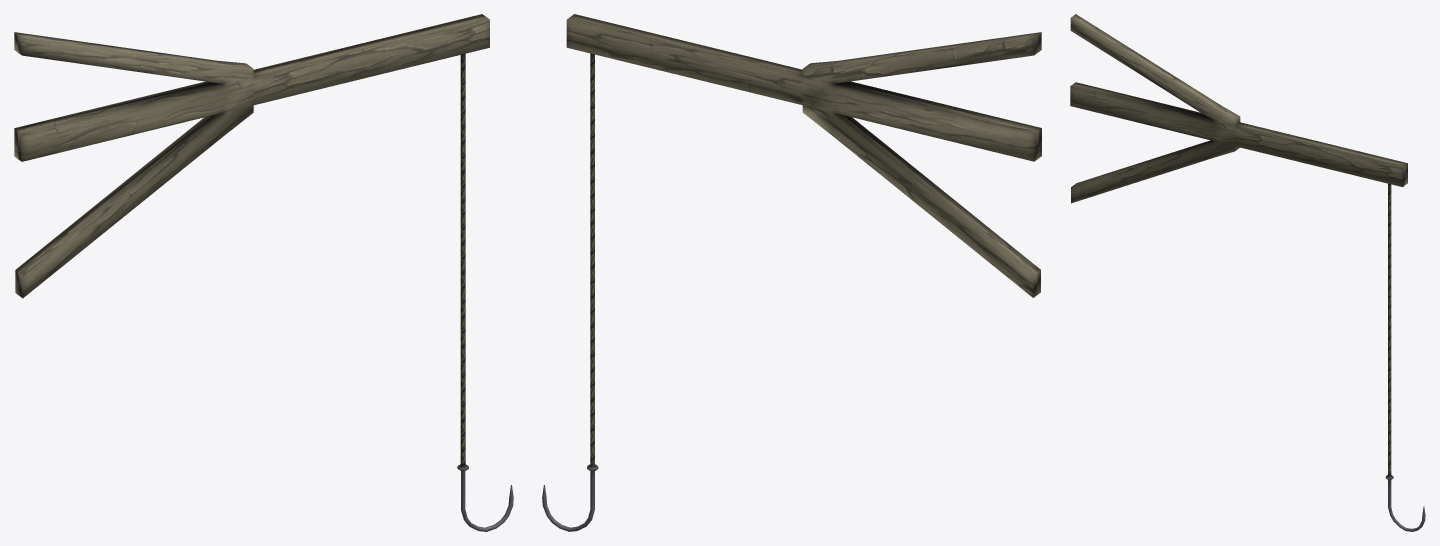
The model's file is Hook.fbx.
3 views of the same model, side by side, from view 1: azimuth 30°, elevation 25°; view 2: azimuth 150°, elevation 25°; view 3: azimuth 330°, elevation 25° (orthographic). The views are drawn at different scales.
Parts seen in each view (by area): view 1: Cube_070; view 2: Cube_070; view 3: Cube_070.
Part boxes in pixels (bbox=[...]): Cube_070: bbox=[14, 14, 513, 531]; Cube_070: bbox=[542, 14, 1041, 531]; Cube_070: bbox=[1070, 14, 1425, 531].
Size of the model in its own units: 5.67 by 6.69 by 0.1507.
